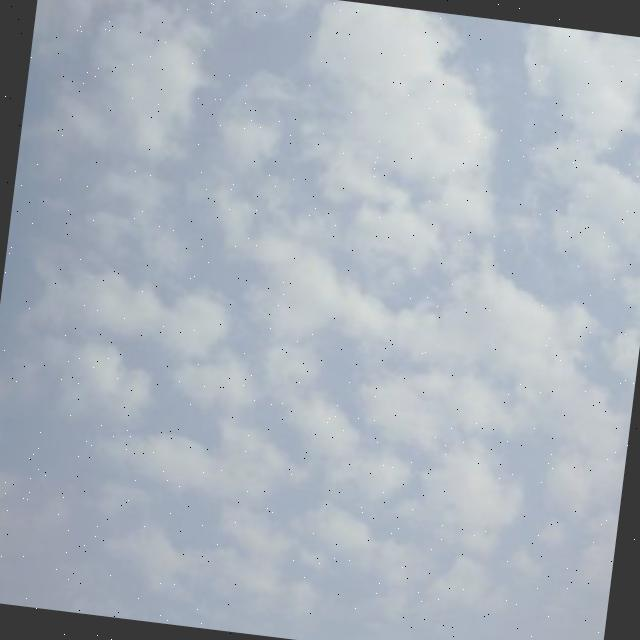Ac: (1, 1, 640, 582)
